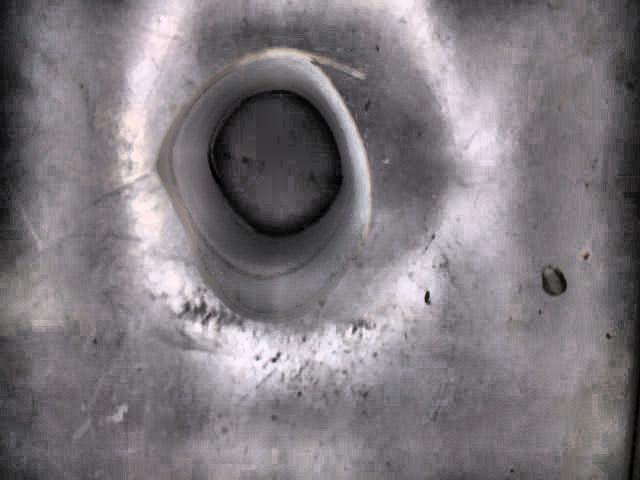Paper: (153, 50, 373, 319)
